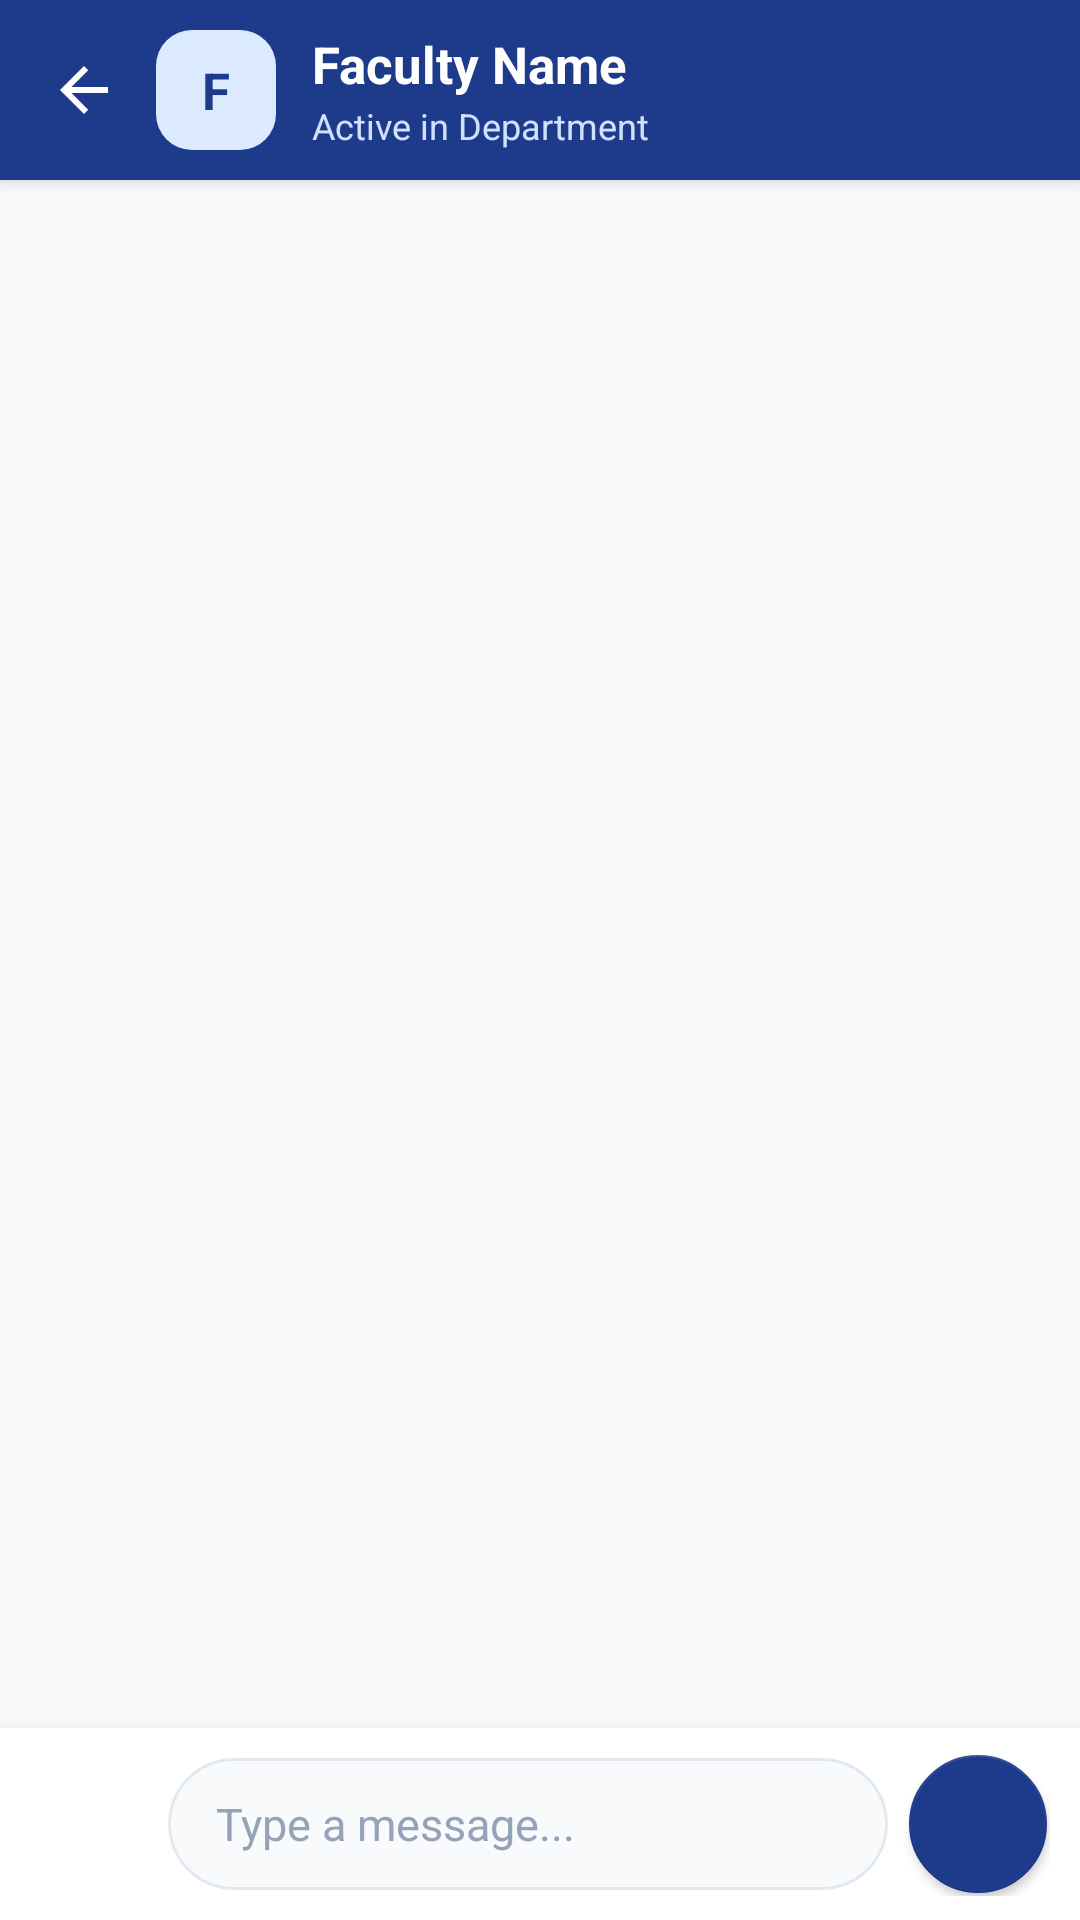

Point at icon controls on the screen. Image size 1080*1920, points as (x,y).
Back: (84,90)
